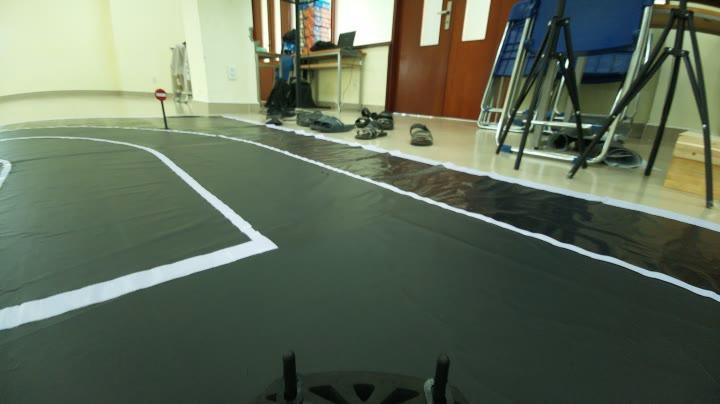no_entry: (152, 88, 171, 100)
